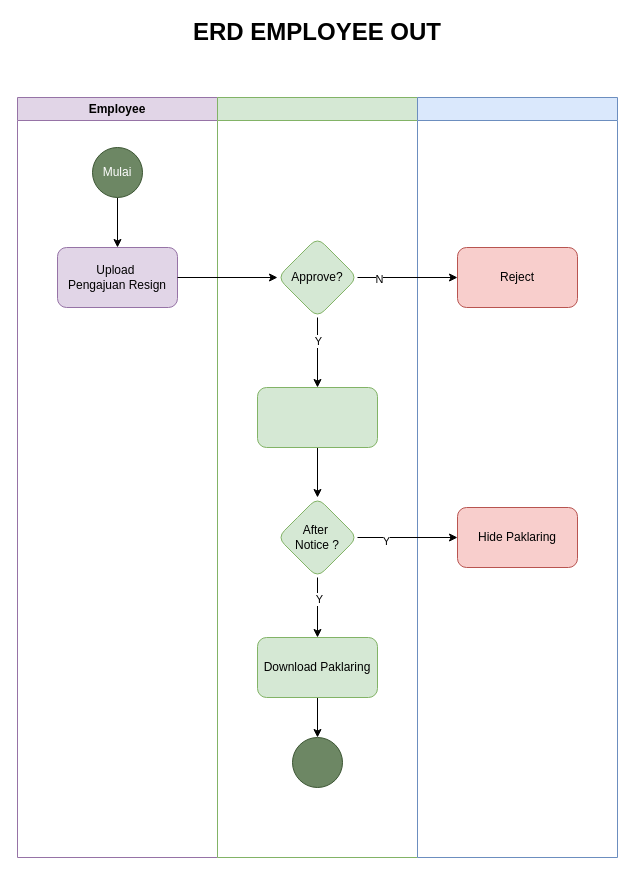
The diagram is 635 pixels wide and 875 high, and some of its shapes have lost their labels. Each missing label, with the box of its shape:
Hrd: (216, 96, 418, 858)
Notice Period (30 Days): (256, 386, 378, 448)
Selesai: (292, 736, 342, 788)
System: (416, 96, 618, 858)
